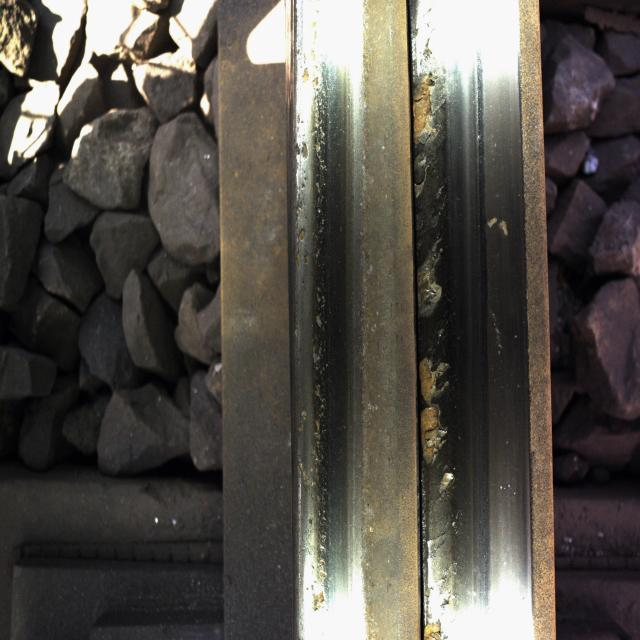crack: (409, 12, 475, 640)
scar: (288, 32, 352, 604)
